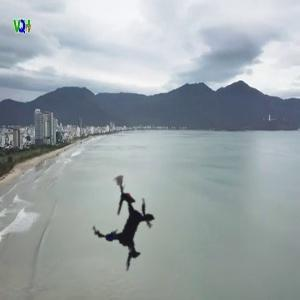drone: (58, 155, 199, 296)
